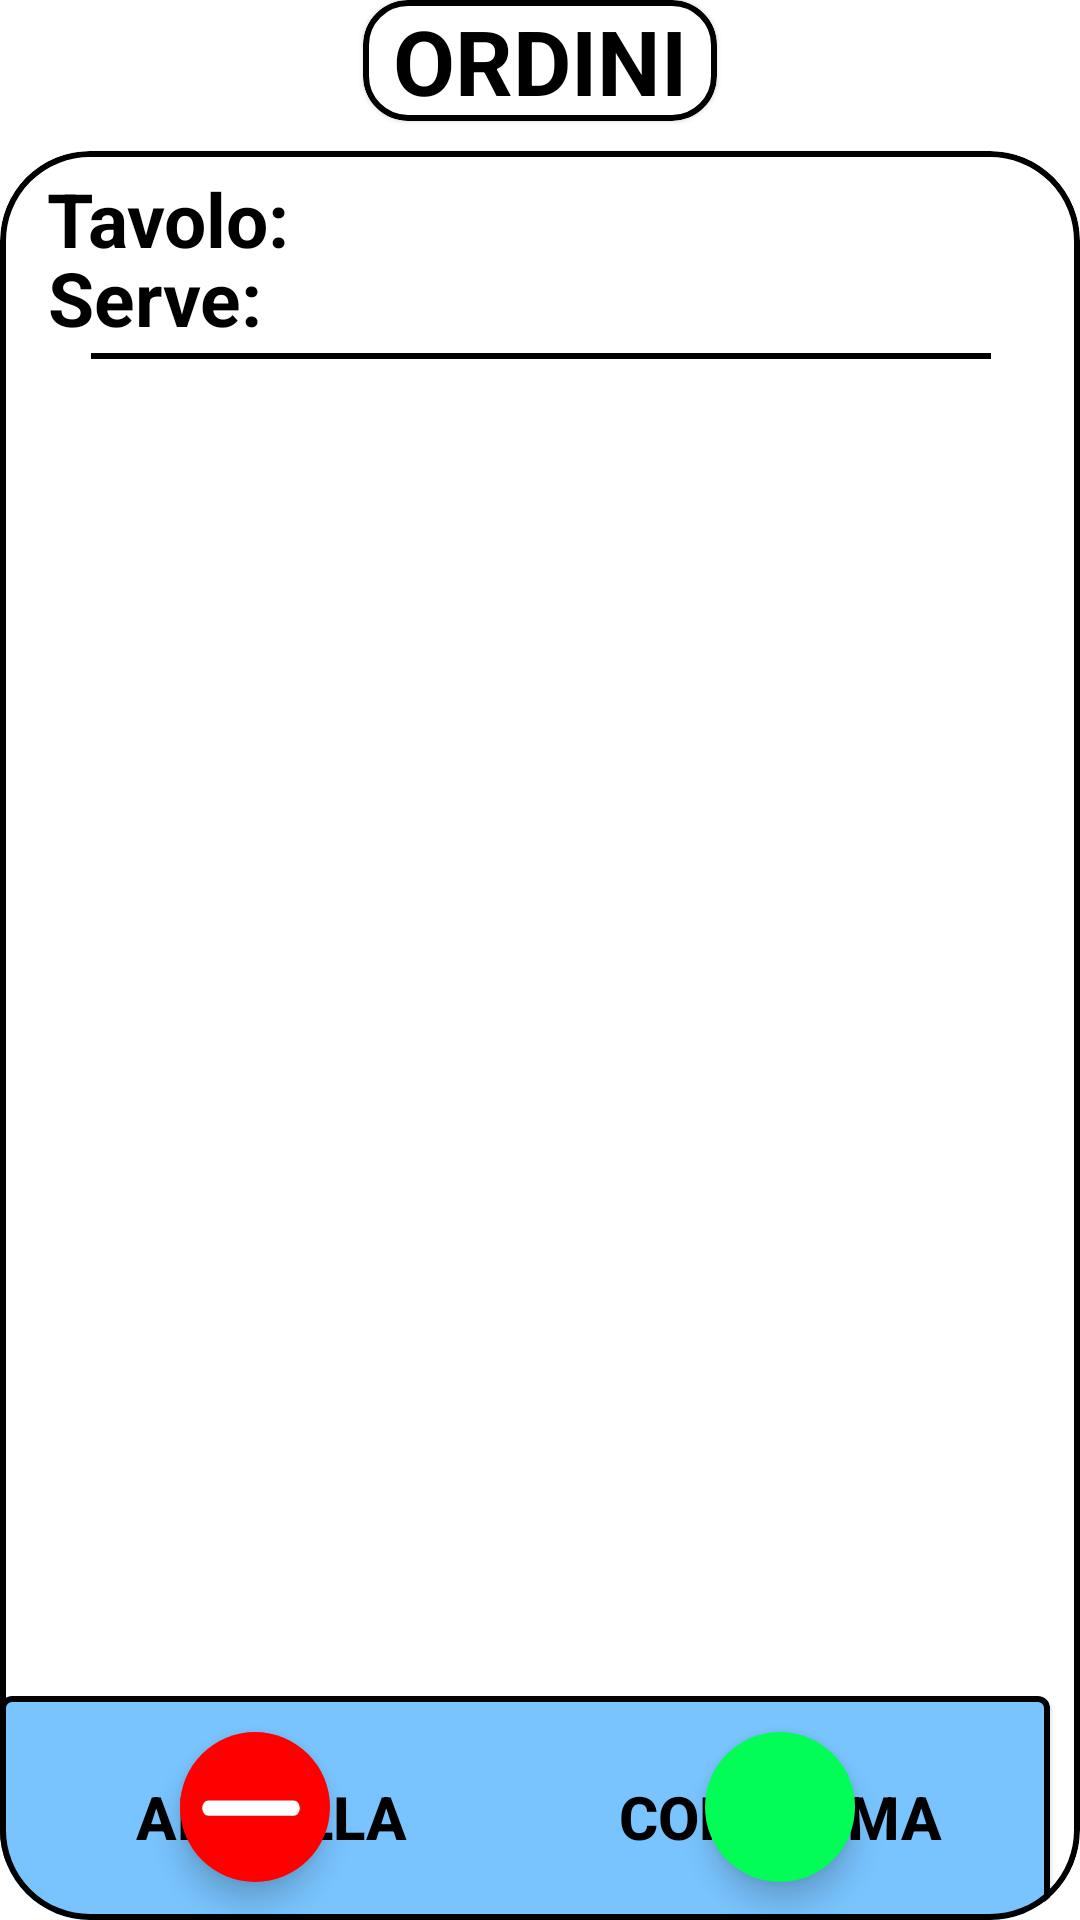

Icons on this 1080 x 1920 Android screen, each with its box as box(x1, y1, x2, y2):
minus: box(180, 1732, 330, 1882)
